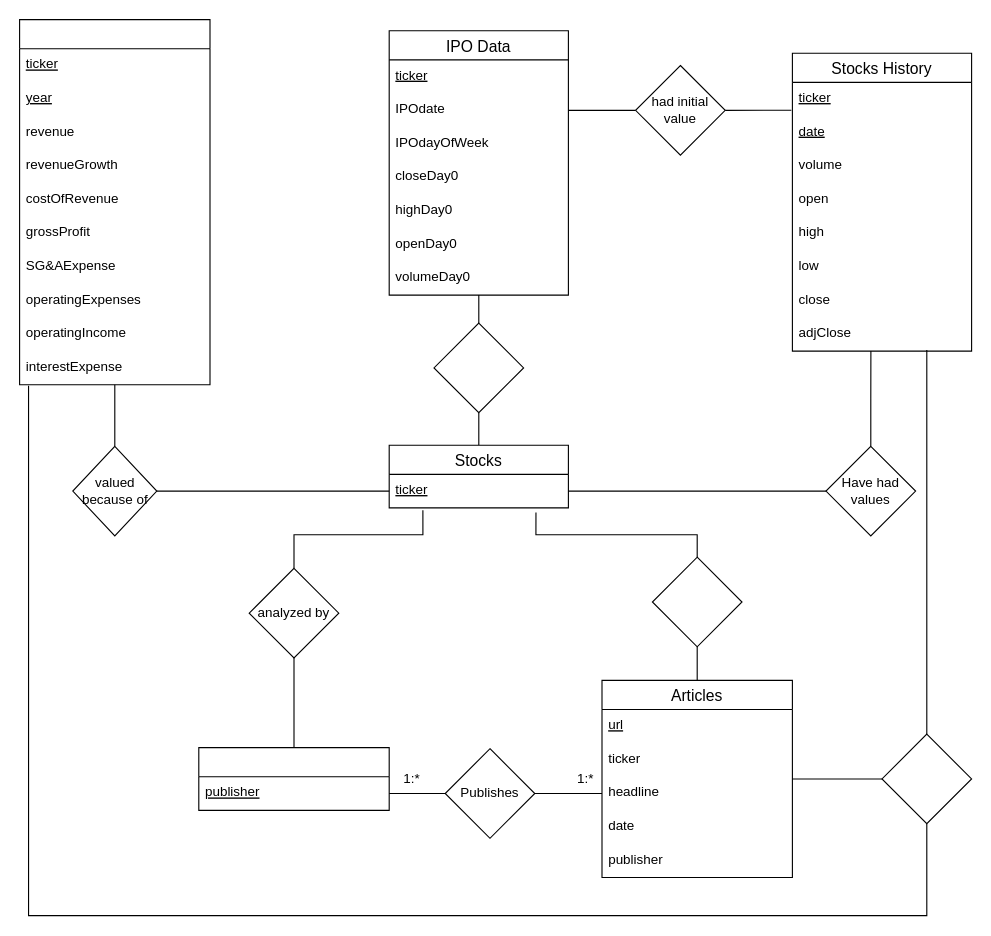
Image size: 991x936. Some labels were removed from this diagram. The shapes that lost their labels are listed below. From the top down, each one's box as (x1, y1, x2, y2) in pixels, then its label:
(18, 18, 210, 385): Company Financial Data
(433, 322, 524, 413): Started at
(651, 556, 742, 647): mentioned in
(198, 746, 389, 810): Publishers
(881, 733, 972, 824): assessed by
